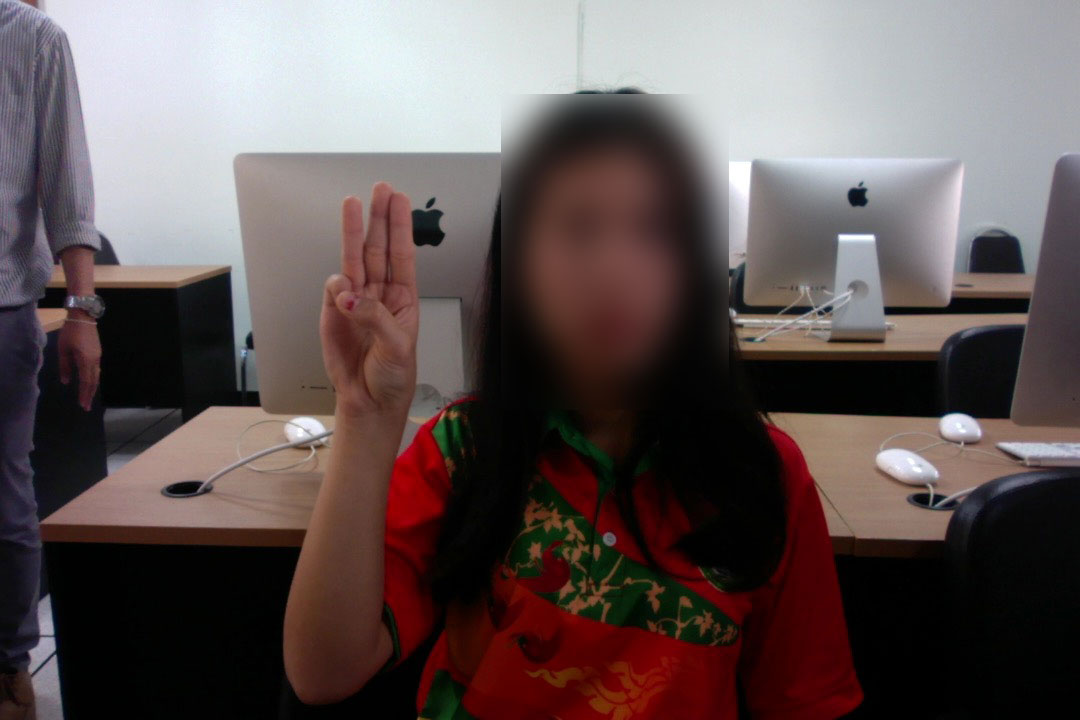wor: (313, 177, 433, 418)
